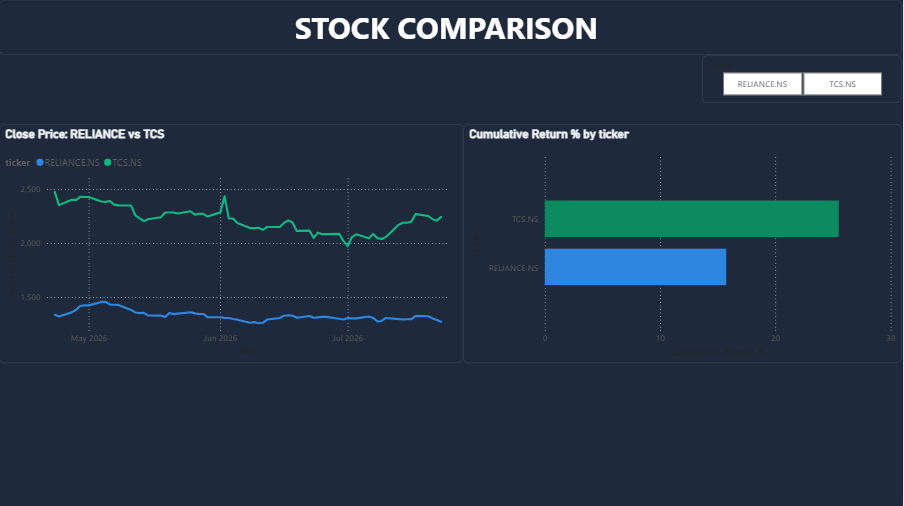

Layout of this report page (visuals, bound fields, positions):
{"tool":"powerbi","page":{"name":"Stock Comparison","canvas":[1280,720],"ordinal":1},"visuals":[{"type":"lineChart","title":"Close Price: RELIANCE vs TCS","fields":{"Y":["Sum(stock_analytics stock_prices.close_price)"],"Category":["stock_analytics stock_prices.date"],"Series":["stock_analytics stock_prices.ticker"]},"box":[0,175.7,657.6,338.7],"z":0},{"type":"clusteredBarChart","fields":{"Category":["stock_analytics stock_prices.ticker"],"Y":["stock_analytics stock_prices.Cumulative Return %"]},"box":[657.6,175.7,622.2,338.7],"z":1000},{"type":"slicer","fields":{"Values":["stock_analytics stock_prices.ticker"]},"box":[996.4,78,283.5,68],"z":2000},{"type":"textbox","box":[0,0,1279.8,78],"z":2001}]}

Visuals, with their boxes in screenshot pixels (x1, y1, x2, y2), scaled from the page's 1280x720 canvas onto the 904x506 screenshot:
"Close Price: RELIANCE vs TCS" lineChart: bbox=(0, 123, 464, 362)
clusteredBarChart - stock_analytics stock_prices.ticker x stock_analytics stock_prices.Cumulative Return %: bbox=(464, 123, 903, 362)
slicer - stock_analytics stock_prices.ticker: bbox=(704, 55, 903, 103)
textbox: bbox=(0, 0, 903, 55)
